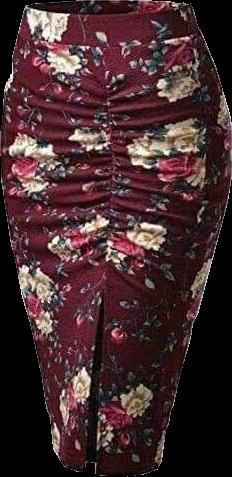Hemline: (51, 452, 161, 476)
Waistline: (14, 30, 202, 48), (26, 2, 193, 17)
